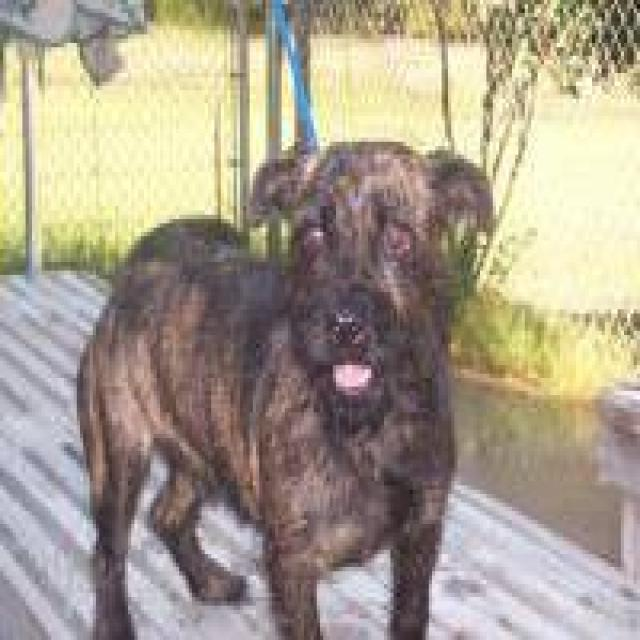dog: (74, 133, 492, 636)
